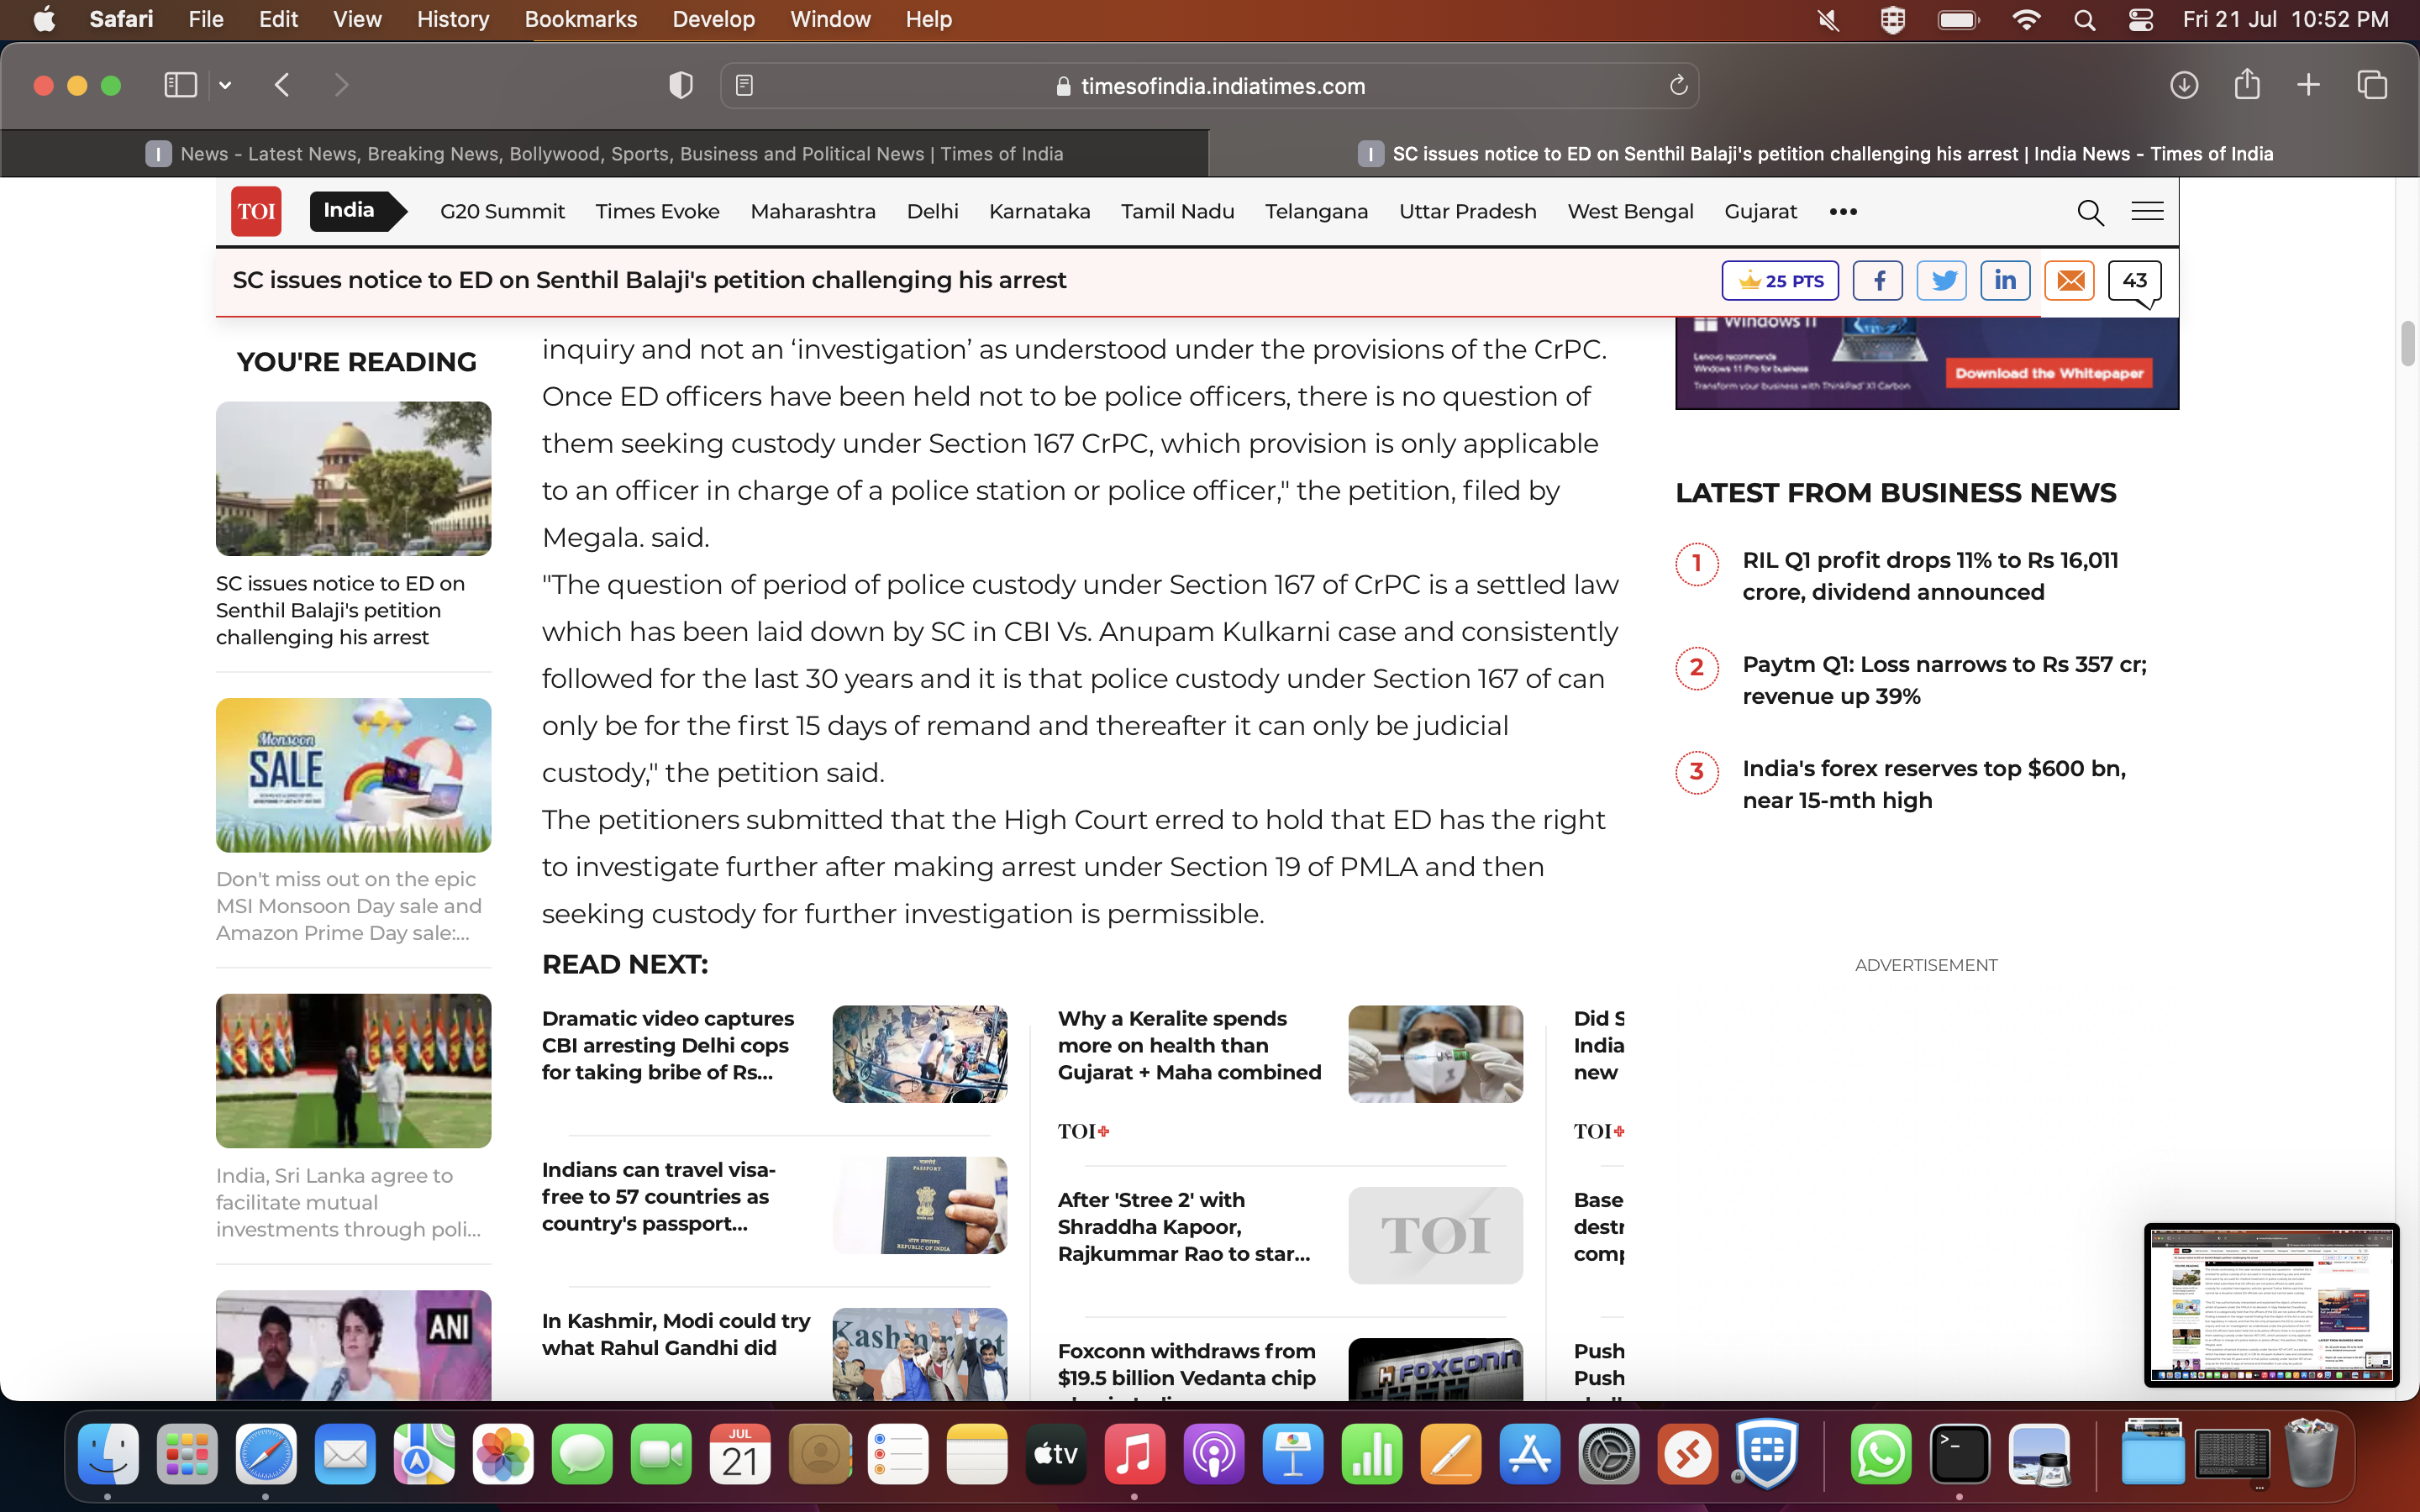Image: (220, 402, 493, 552), (216, 702, 486, 852), (220, 1002, 490, 1144), (220, 1291, 486, 1399), (833, 1155, 1005, 1254), (829, 1312, 1009, 1399), (1352, 1012, 1521, 1104), (836, 1009, 1005, 1096), (1345, 1338, 1521, 1407)
Paragraph: (526, 319, 1605, 549), (533, 570, 1624, 793), (530, 800, 1624, 935), (220, 249, 1085, 310), (1042, 1169, 1324, 1286), (1737, 746, 2131, 822), (1667, 463, 2127, 526), (1049, 991, 1324, 1096), (1734, 646, 2157, 712), (1725, 545, 2138, 610), (542, 1144, 782, 1249), (537, 1002, 812, 1092), (542, 1305, 808, 1364), (1052, 1338, 1324, 1395), (537, 939, 735, 979), (439, 190, 578, 233), (1385, 193, 1551, 230), (749, 193, 892, 233), (585, 193, 732, 230), (976, 193, 1101, 226), (1565, 197, 1704, 226), (1261, 193, 1382, 226), (1122, 193, 1239, 226), (1721, 190, 1798, 237), (1814, 183, 1871, 237), (322, 190, 399, 230), (902, 193, 969, 226)
